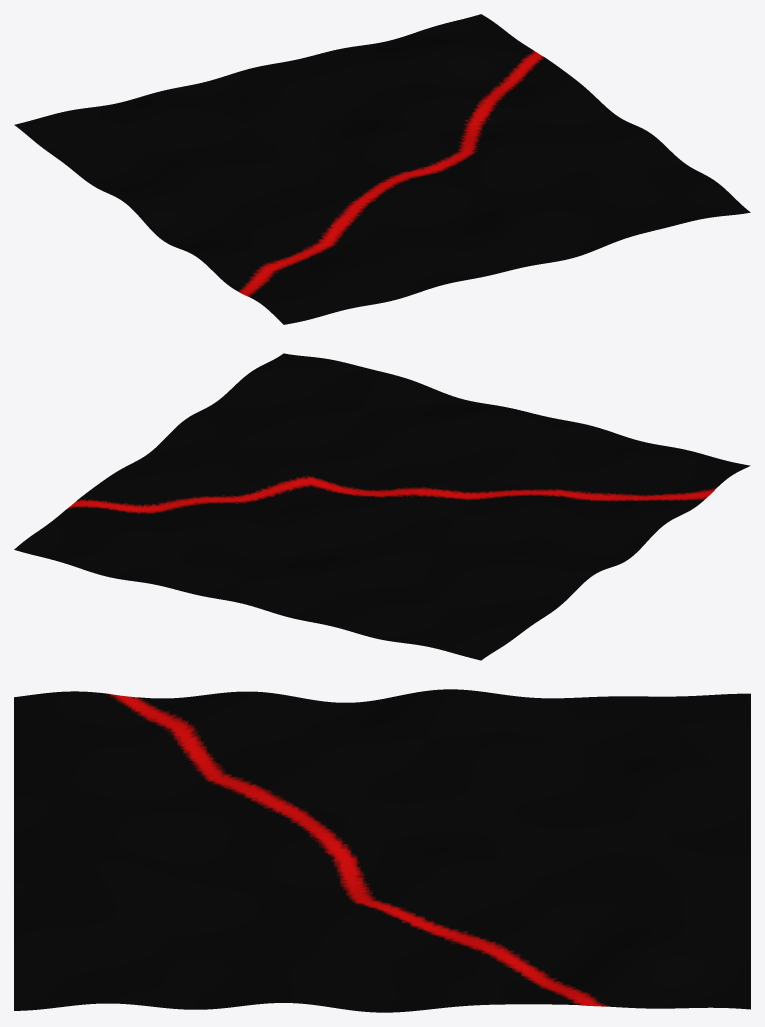
Rendered from terrain.glb.
3 renders of one model, top to bottom at view 1: azimuth 30°, elevation 25°; view 2: azimuth 150°, elevation 25°; view 3: azimuth 270°, elevation 25°, orthographic. The views are drawn at different scales.
Parts seen in each view (by area): view 1: terrain; view 2: terrain; view 3: terrain.
Part boxes in pixels (x1,y1,x2,y2): terrain: (14,14,750,324); terrain: (14,353,750,660); terrain: (14,689,750,1012).
Size of the model in its own units: 120 by 3.37 by 120.
